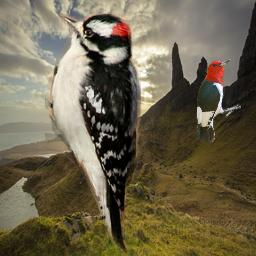Woodpecker: (45, 13, 141, 254), (196, 59, 241, 142)
